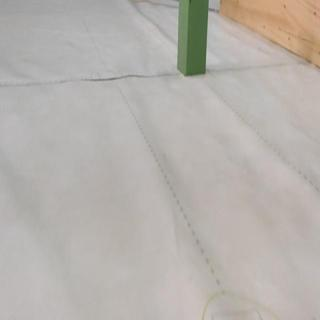greenbox: (176, 0, 210, 77)
